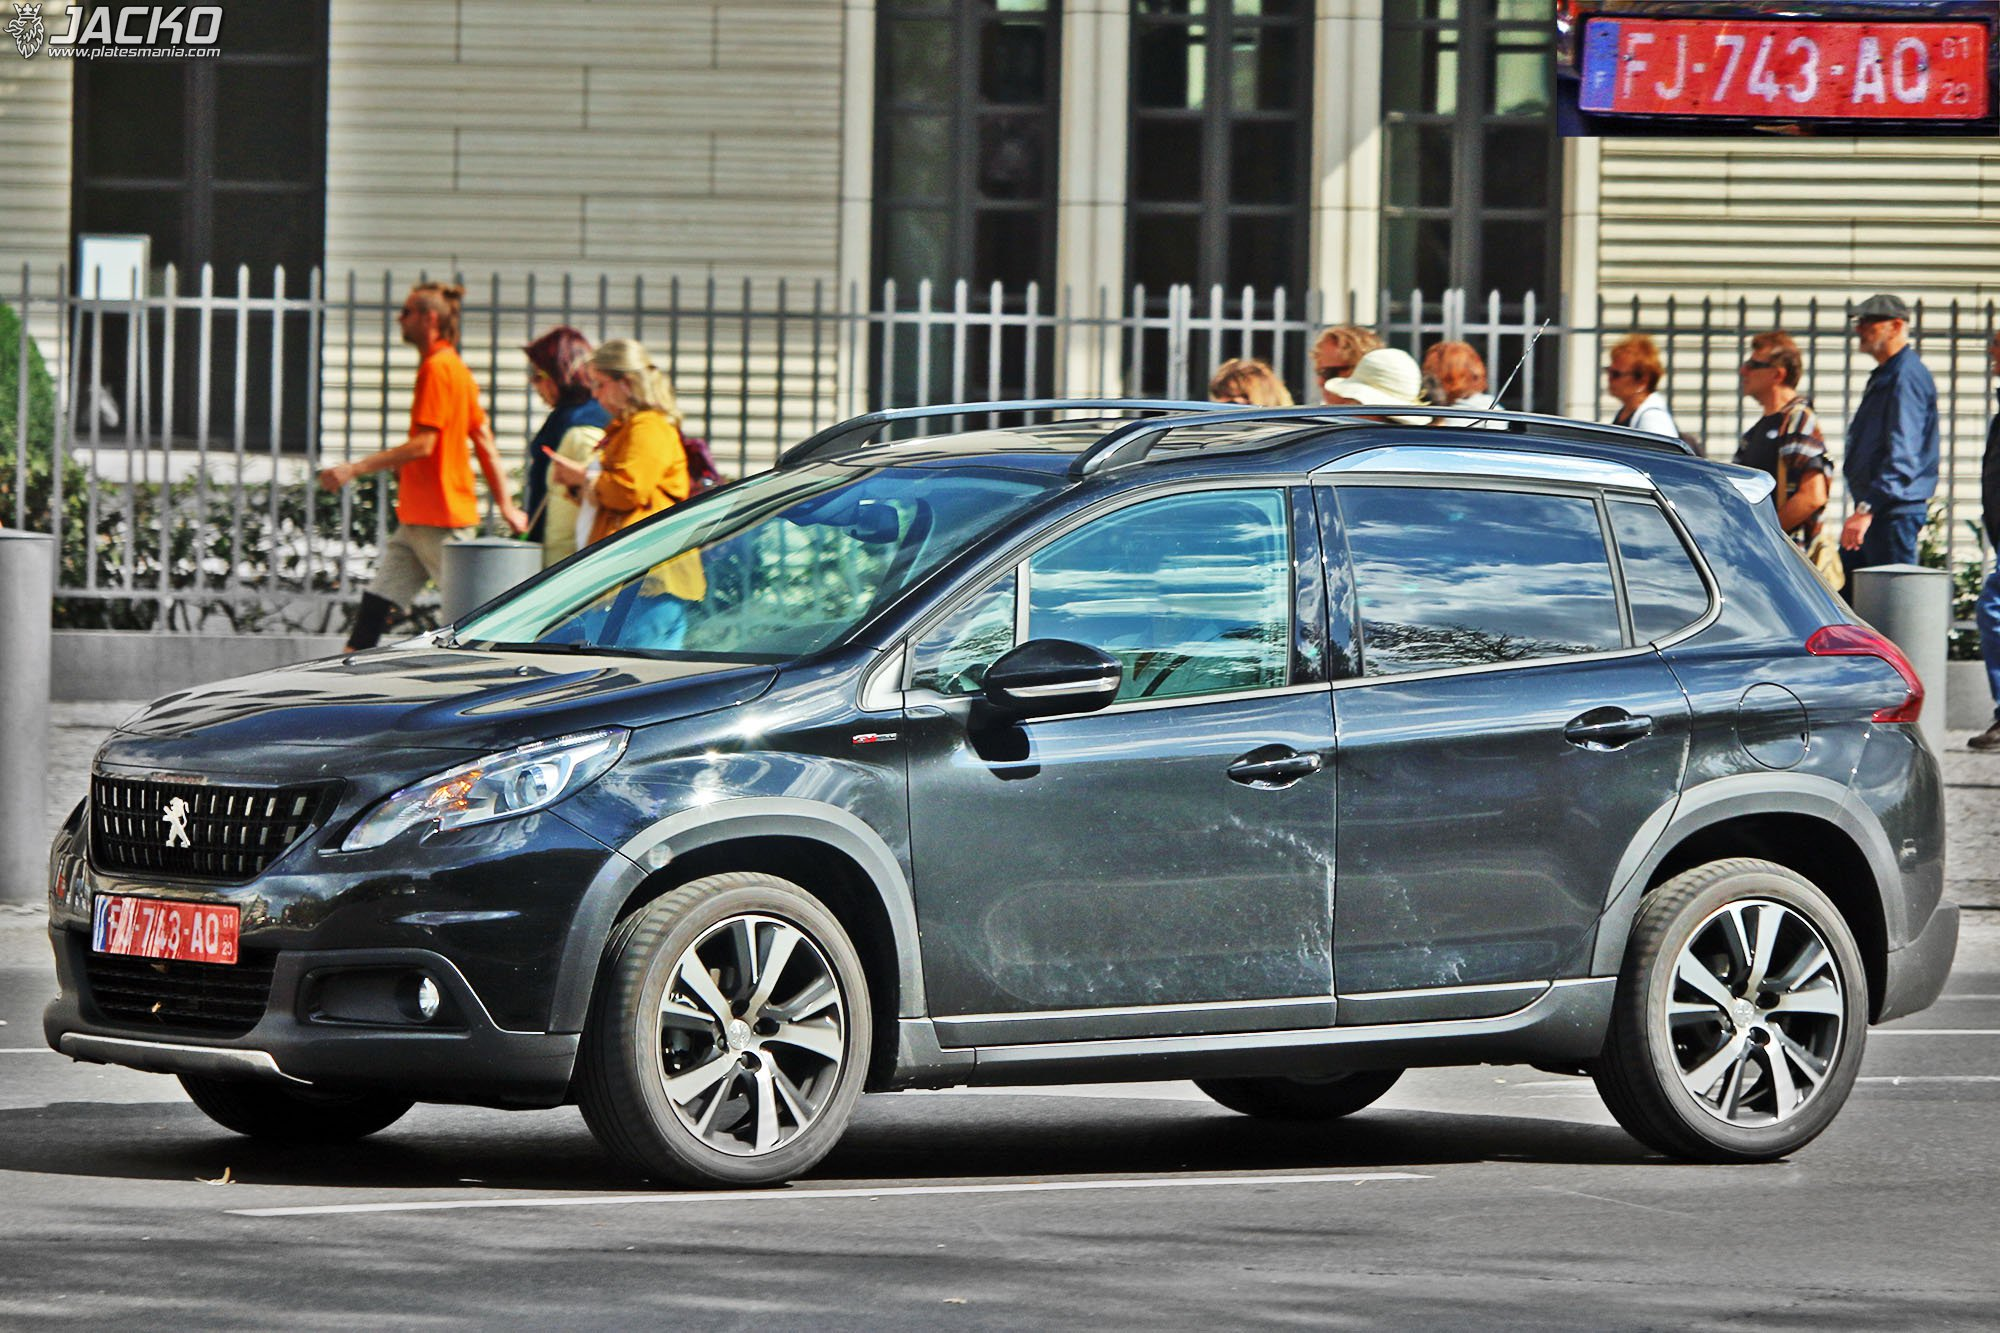licence plate: (80, 887, 244, 969)
